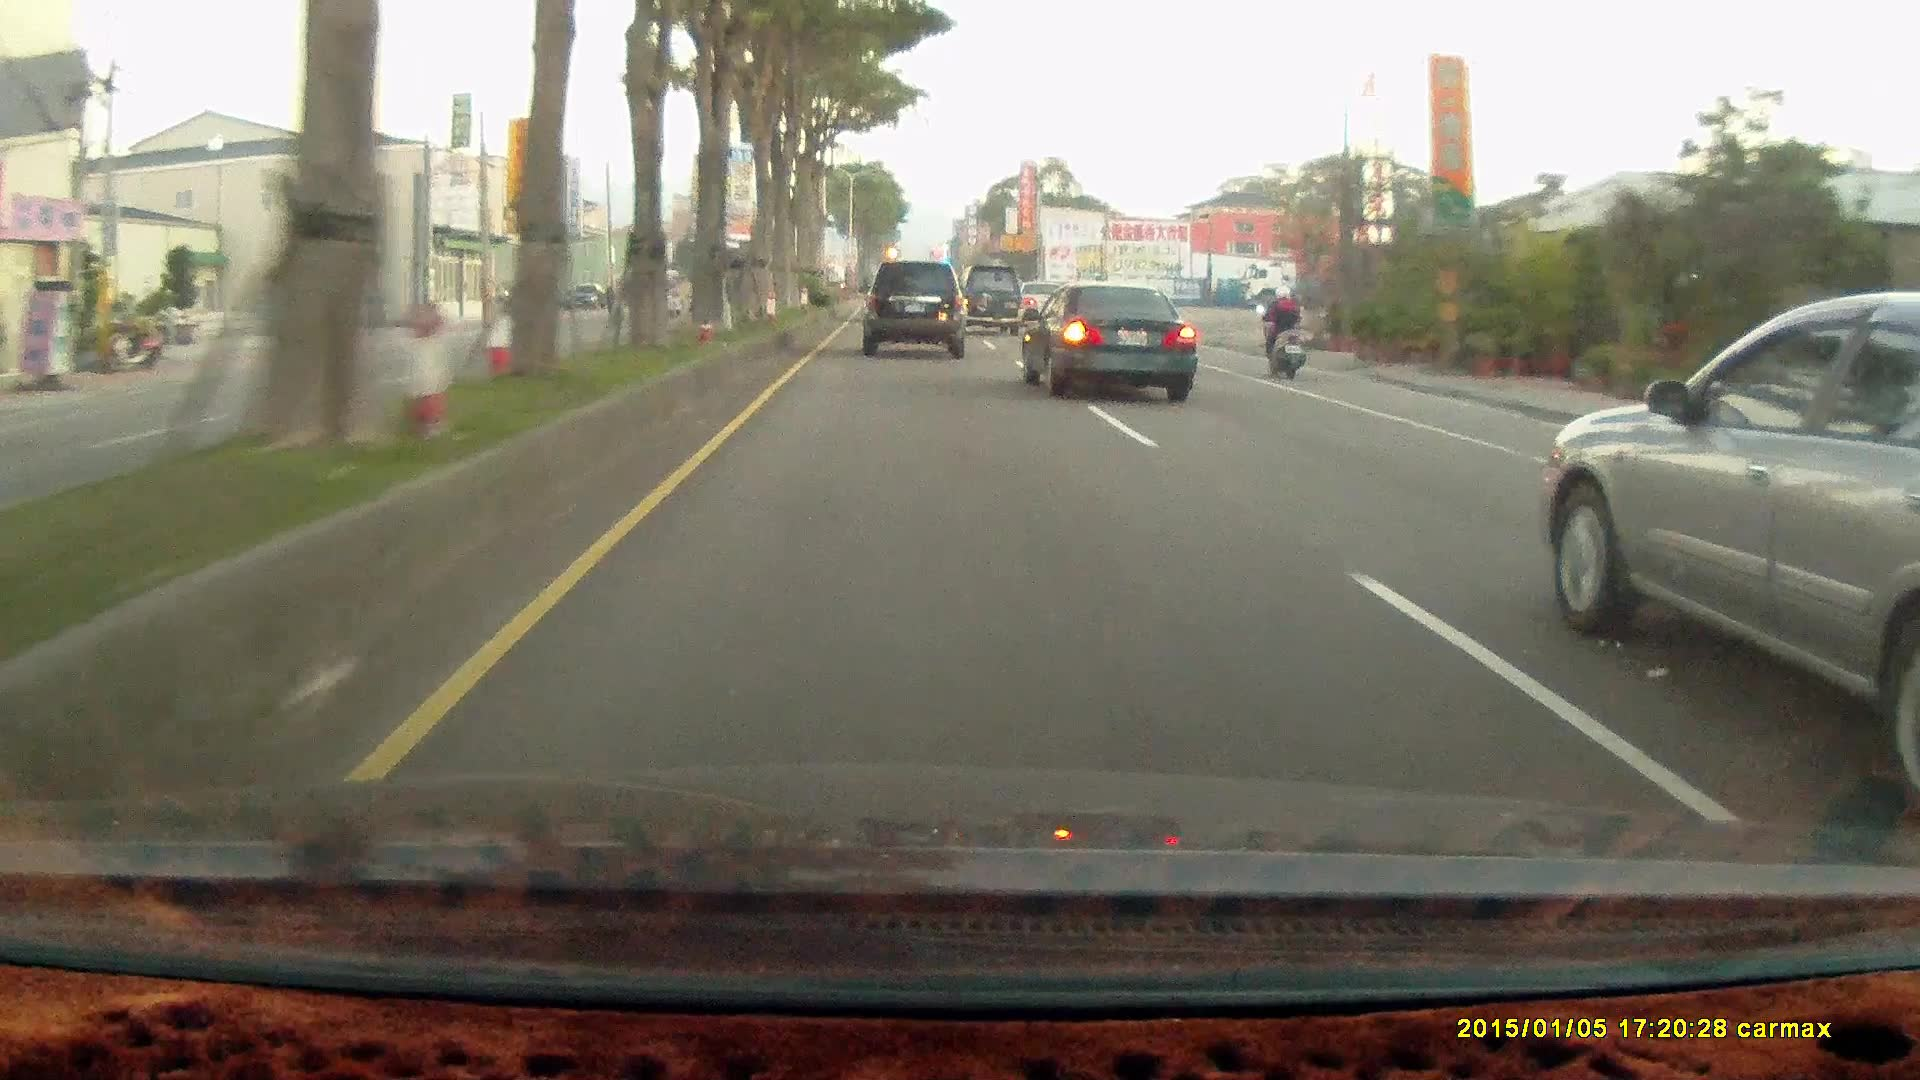rider: (1251, 276, 1318, 389), (1255, 286, 1306, 383)
vehicle: (1535, 296, 1918, 820), (1019, 283, 1200, 403), (1020, 279, 1196, 402), (1249, 258, 1472, 312), (859, 262, 970, 363), (861, 259, 965, 357), (292, 281, 393, 337), (951, 264, 1026, 339), (950, 263, 1025, 338)
